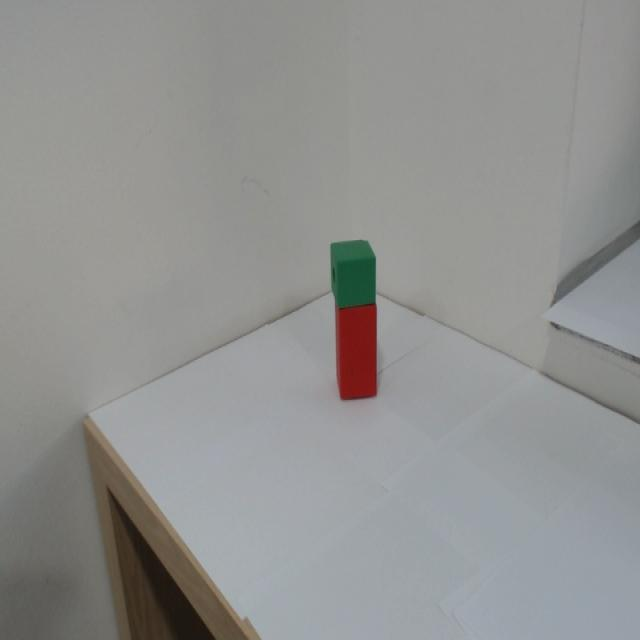cube: (322, 226, 391, 301)
